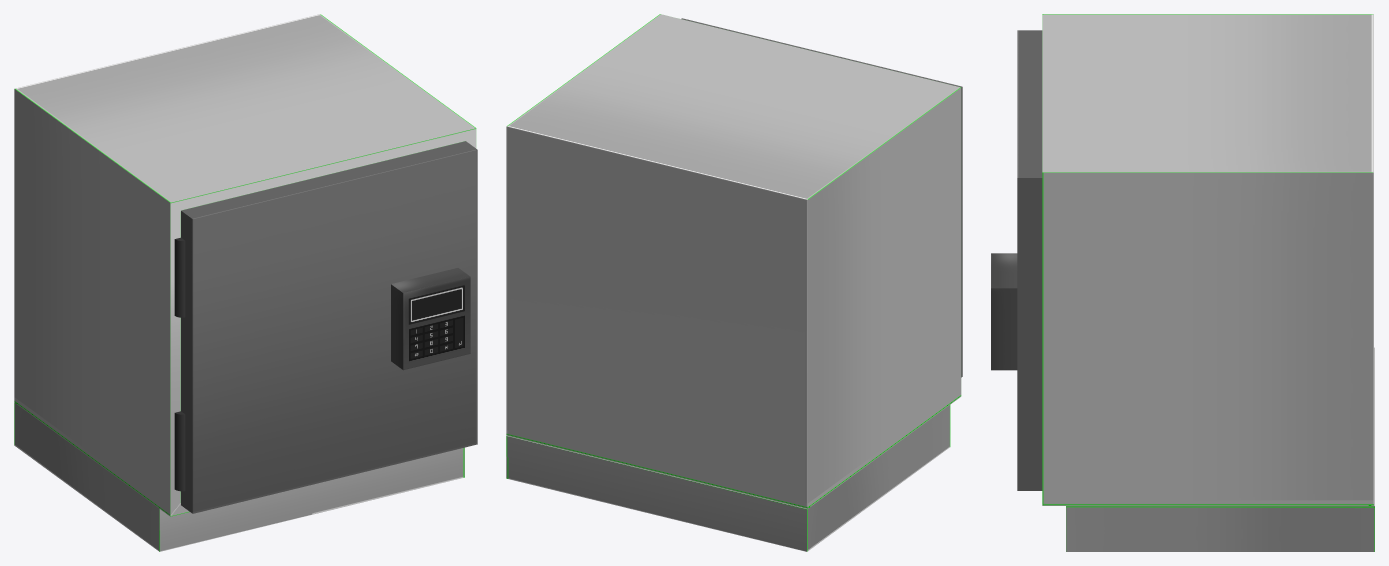
The model's file is Safe0.FBX.
3 renders of one model, left to right at view 1: azimuth 30°, elevation 25°; view 2: azimuth 150°, elevation 25°; view 3: azimuth 270°, elevation 25°, orthographic. The views are drawn at different scales.
Visible parts, largest first — view 1: safebox0, safedoor0; view 2: safebox0, safedoor0; view 3: safebox0, safedoor0.
Boxes of the visible parts, <box> form: safebox0: <box>14,14,476,551</box>; safedoor0: <box>174,141,477,513</box>; safebox0: <box>506,14,961,551</box>; safedoor0: <box>681,18,962,377</box>; safebox0: <box>1042,14,1374,551</box>; safedoor0: <box>991,30,1042,490</box>.
Size of the model in its own units: 19.21 by 21.43 by 19.64.
Materials: 2 (2 with a texture image).
